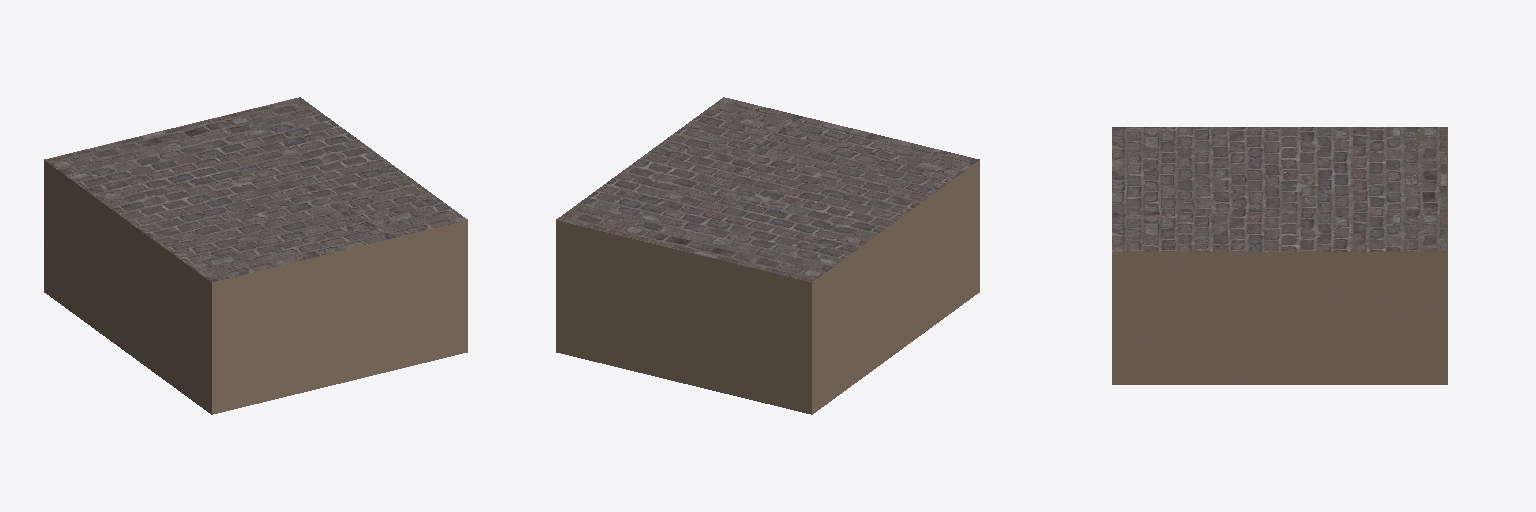
3 renders of one model, left to right at view 1: azimuth 30°, elevation 25°; view 2: azimuth 150°, elevation 25°; view 3: azimuth 270°, elevation 25°, orthographic.
Visible parts, largest first — view 1: Cube; view 2: Cube; view 3: Cube.
Boxes of the visible parts, box(x1,y1,x2,y2) form: Cube: box(44, 97, 467, 414); Cube: box(556, 97, 979, 414); Cube: box(1112, 127, 1447, 384).
Size of the model in its own units: 11.73 by 5.78 by 13.31.
1 materials, 1 textured.